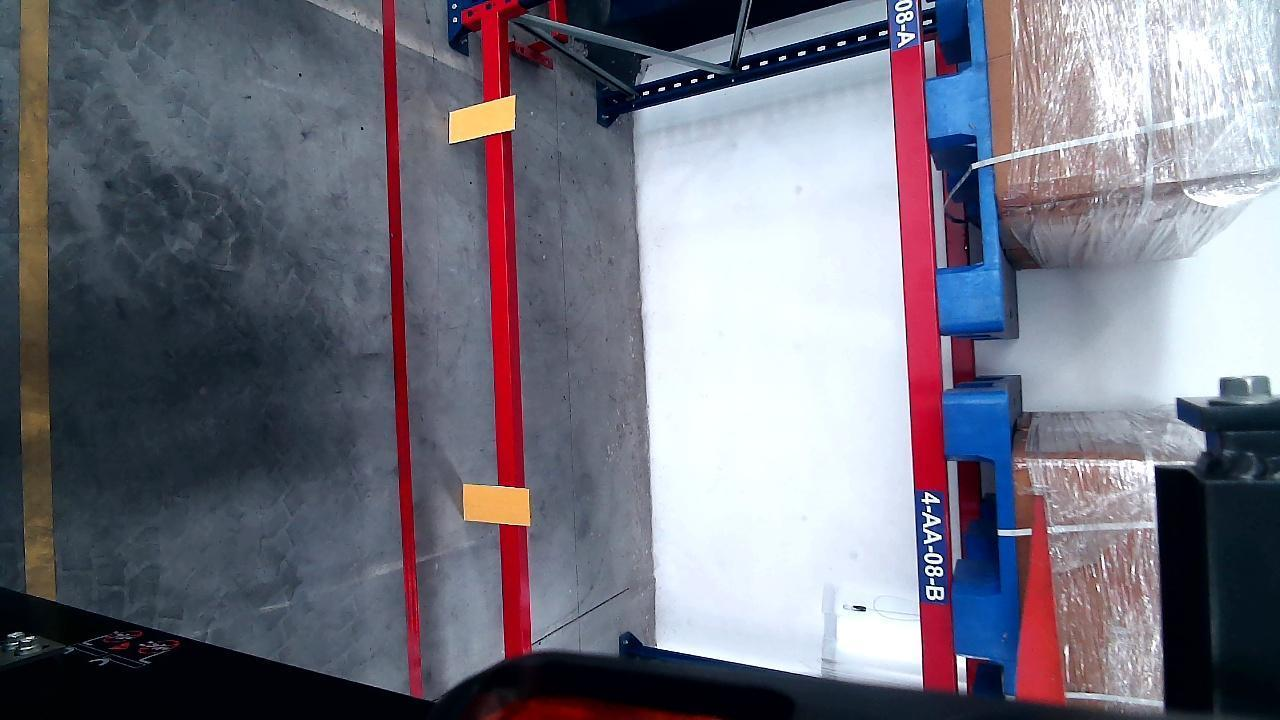h_rack: (885, 0, 951, 680), (480, 15, 528, 671), (1017, 397, 1062, 686)
orange_strip: (448, 95, 516, 142), (462, 483, 529, 526)
red_line: (382, 4, 422, 696), (1019, 390, 1062, 696)
small_pallet: (917, 0, 1003, 329), (948, 389, 1028, 686)
yellow_line: (18, 1, 54, 603)
